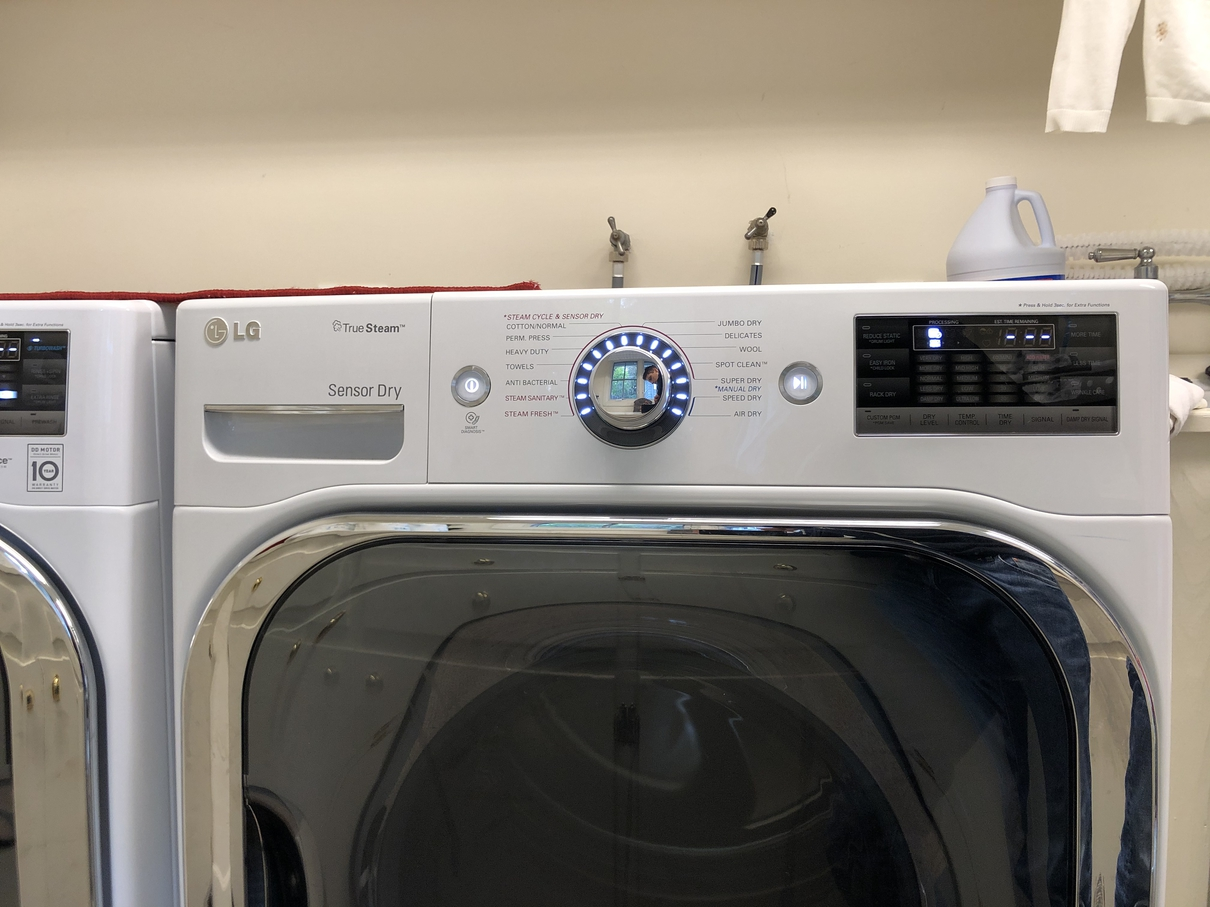status: (904, 316, 1058, 358)
